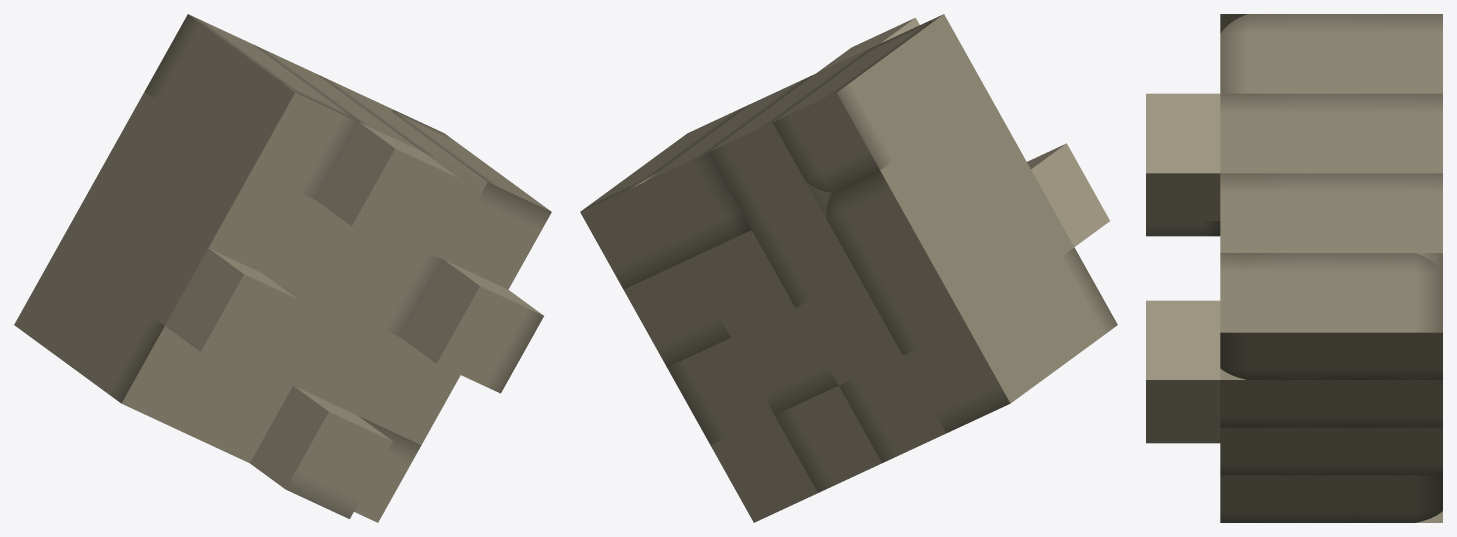
The model's file is rotator.obj.
3 renders of one model, left to right at view 1: azimuth 30°, elevation 25°; view 2: azimuth 150°, elevation 25°; view 3: azimuth 270°, elevation 25°, orthographic. The views are drawn at different scales.
Visible parts, largest first — view 1: rotator; view 2: rotator; view 3: rotator.
Part boxes in pixels (<box>): rotator: <box>14,14,551,522</box>; rotator: <box>580,14,1117,522</box>; rotator: <box>1146,14,1442,522</box>.
Bounding box in the file's own units: 0.6944 × 0.6944 × 0.4.
